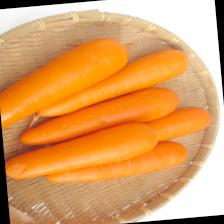carrot: (0, 35, 135, 128), (31, 46, 193, 119), (15, 85, 183, 147), (1, 121, 162, 181), (43, 140, 190, 186)
